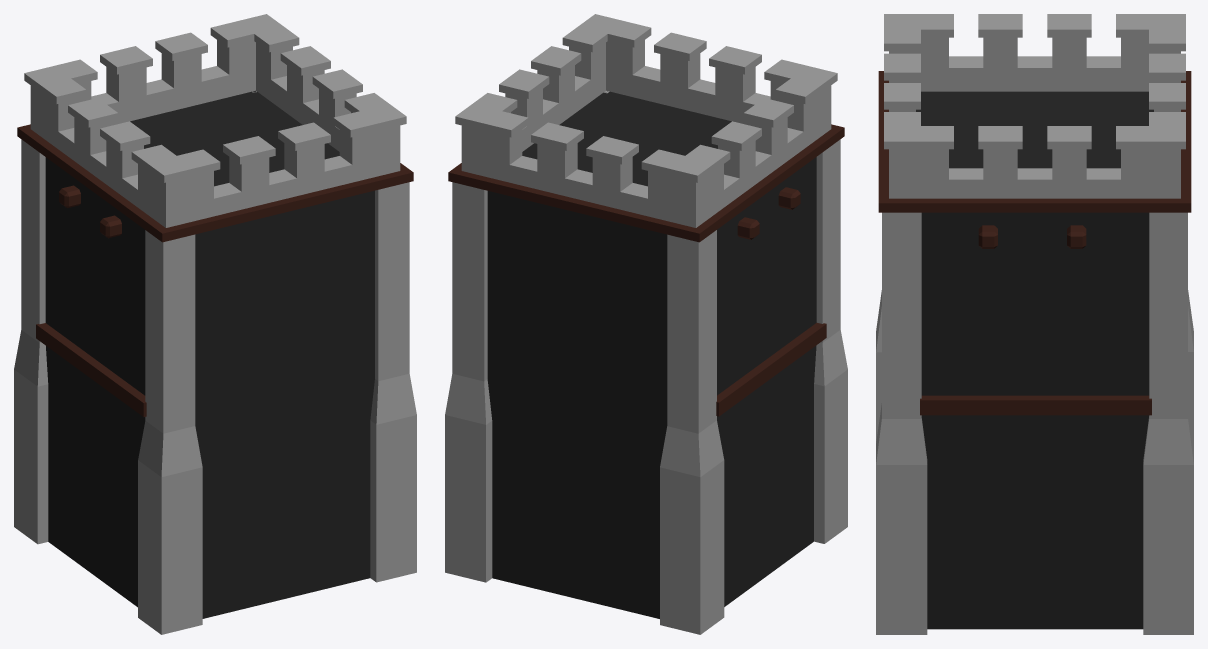
Rendered from fortification_tower_small.FBX.
3 renders of one model, left to right at view 1: azimuth 30°, elevation 25°; view 2: azimuth 150°, elevation 25°; view 3: azimuth 270°, elevation 25°, orthographic. The views are drawn at different scales.
Parts seen in each view (by area): view 1: fortification_tower_small; view 2: fortification_tower_small; view 3: fortification_tower_small.
Part boxes in pixels (x1=…): fortification_tower_small: x1=14, y1=14, x2=416, y2=634; fortification_tower_small: x1=445, y1=14, x2=847, y2=634; fortification_tower_small: x1=876, y1=14, x2=1193, y2=634.
Bounding box in the file's own units: 887 × 1459 × 857.
